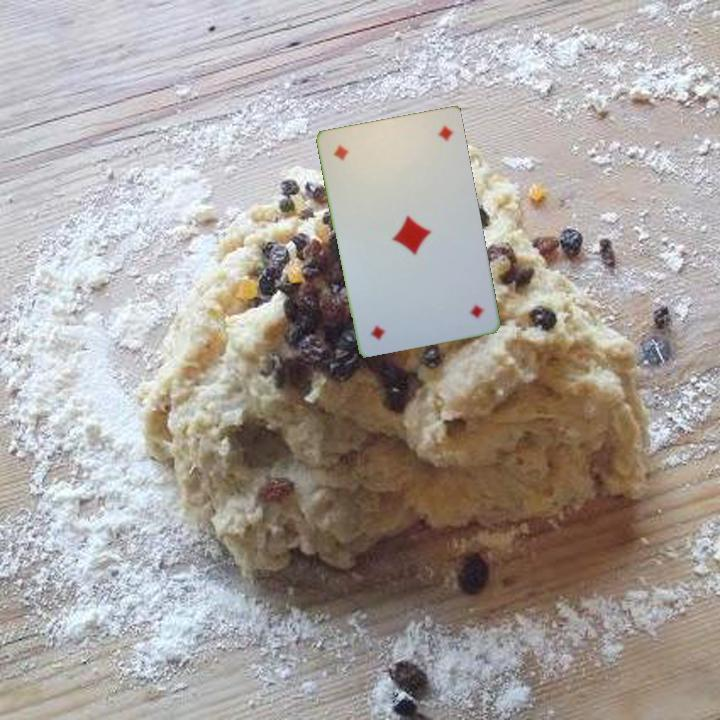d_a.png: (414, 267, 490, 335), (326, 128, 402, 196)
